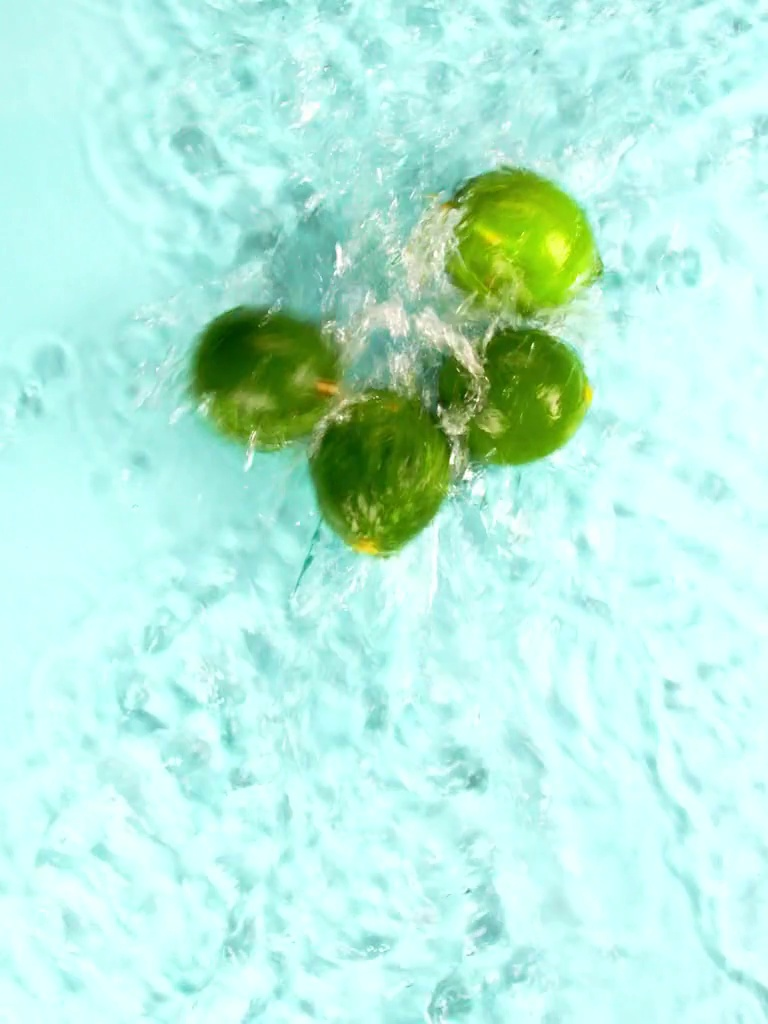Orange: (436, 164, 602, 309)
